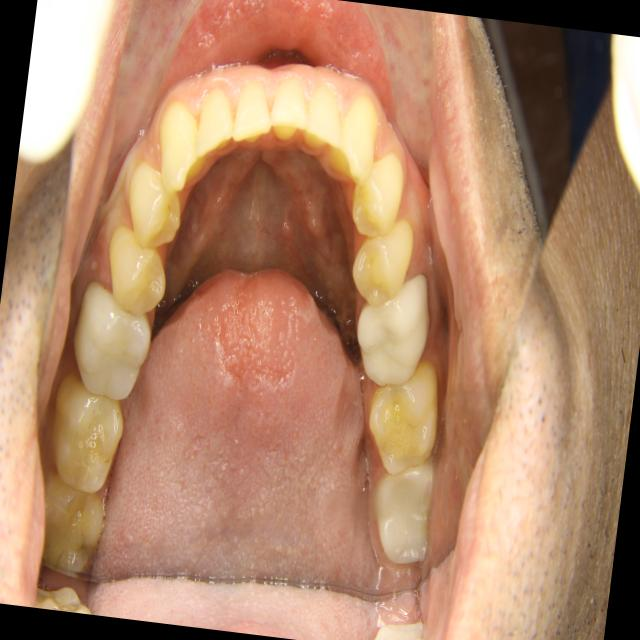tooth: (62, 271, 160, 407), (42, 367, 138, 502), (357, 348, 452, 483), (345, 265, 441, 392), (361, 447, 451, 573), (27, 461, 116, 586), (95, 216, 177, 325), (343, 211, 425, 314), (148, 88, 218, 202), (117, 152, 191, 253), (322, 79, 386, 189), (344, 144, 411, 242), (189, 83, 248, 165), (264, 70, 317, 152), (298, 80, 351, 157), (228, 74, 277, 151)
